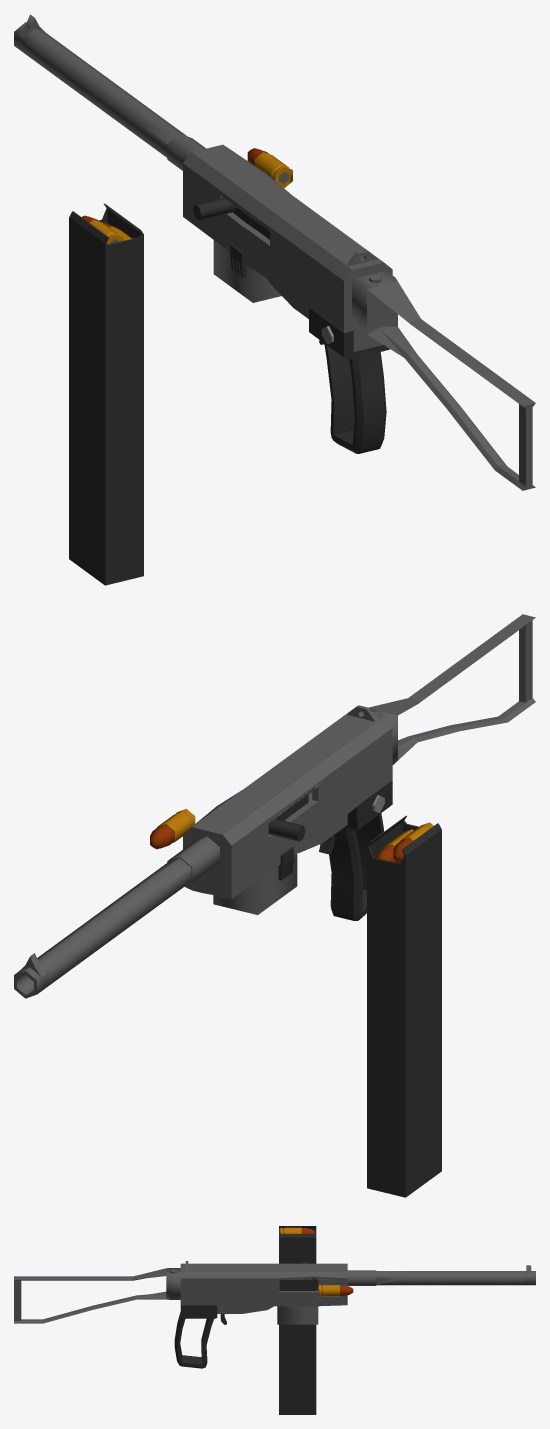
The model's file is IronSimpleSMG.fbx.
3 renders of one model, top to bottom at view 1: azimuth 30°, elevation 25°; view 2: azimuth 150°, elevation 25°; view 3: azimuth 270°, elevation 25°, orthographic. The views are drawn at different scales.
Visible parts, largest first — view 1: magazine, Mainpody, tok, hand, S_barrel_9x19_SIM, bolt, 9x051; view 2: magazine, Mainpody, S_barrel_9x19_SIM, tok, hand, 9x051, bolt; view 3: Mainpody, magazine, S_barrel_9x19_SIM, tok, hand, bolt, 9x051.
Boxes of the visible parts, <box> form: magazine: <box>69,203,143,585</box>; Mainpody: <box>183,144,392,351</box>; tok: <box>352,271,535,490</box>; hand: <box>309,308,389,453</box>; S_barrel_9x19_SIM: <box>14,14,205,170</box>; bolt: <box>193,197,269,239</box>; 9x051: <box>247,148,292,188</box>; magazine: <box>367,815,441,1197</box>; Mainpody: <box>183,705,392,914</box>; S_barrel_9x19_SIM: <box>14,836,219,998</box>; tok: <box>361,614,535,764</box>; hand: <box>329,780,392,920</box>; 9x051: <box>150,809,195,849</box>; bolt: <box>268,794,308,841</box>; Mainpody: <box>180,1261,347,1324</box>; magazine: <box>279,1226,316,1414</box>; S_barrel_9x19_SIM: <box>347,1265,535,1285</box>; tok: <box>14,1268,180,1323</box>; hand: <box>174,1305,217,1368</box>; bolt: <box>279,1261,318,1290</box>; 9x051: <box>318,1285,353,1296</box>.
Size of the model in its own units: 93.39 by 141 by 361.
